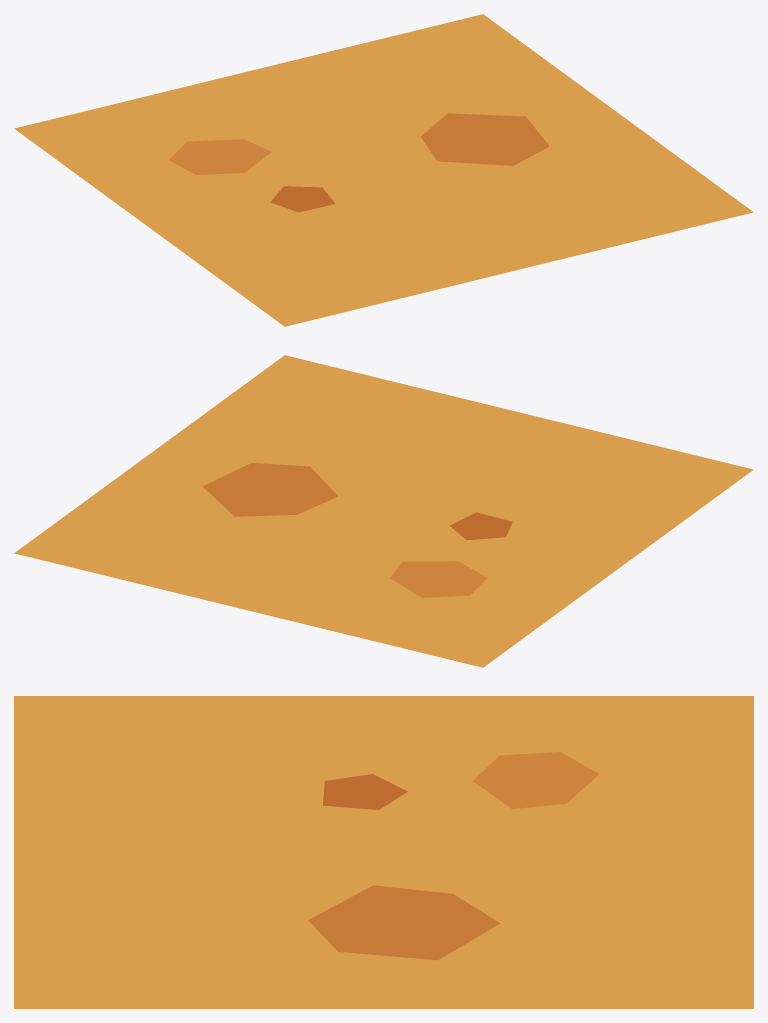
File: tile_oasis_outskirts.glb
3 renders of one model, top to bottom at view 1: azimuth 30°, elevation 25°; view 2: azimuth 150°, elevation 25°; view 3: azimuth 270°, elevation 25°, orthographic. The views are drawn at different scales.
Visible parts, largest first — view 1: center_b; view 2: center_b; view 3: center_b.
Part boxes in pixels (bbox=[...]): center_b: bbox=[14, 14, 753, 326]; center_b: bbox=[14, 355, 753, 667]; center_b: bbox=[14, 696, 753, 1008].
Bounding box in the file's own units: 2 × 0 × 2.
1 material, 1 textured.
